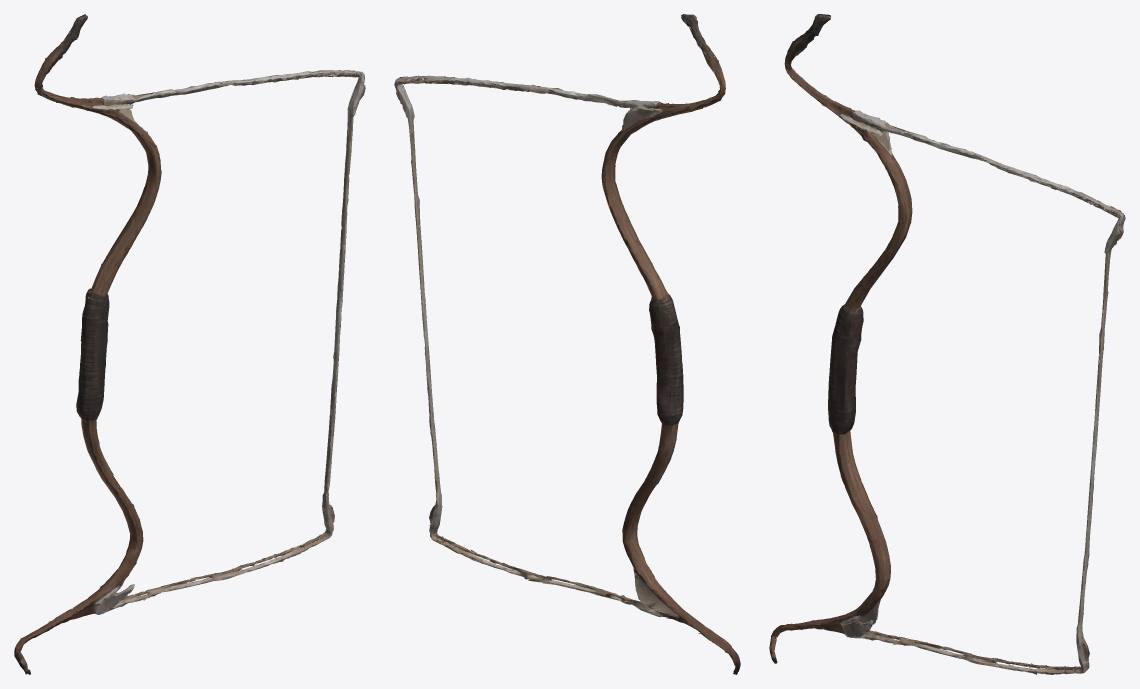
The model's file is тип-лук.glb.
3 views of the same model, side by side, from view 1: azimuth 30°, elevation 25°; view 2: azimuth 150°, elevation 25°; view 3: azimuth 330°, elevation 25° (orthographic). The views are drawn at different scales.
Visible parts, largest first — view 1: тип-лук; view 2: тип-лук; view 3: тип-лук.
Boxes of the visible parts, box(x1,y1,x2,y2) form: тип-лук: box(14, 14, 365, 674); тип-лук: box(394, 14, 740, 674); тип-лук: box(769, 14, 1125, 674).
Bounding box in the file's own units: 0.73 × 1.3 × 0.0547.
1 material, 1 textured.
